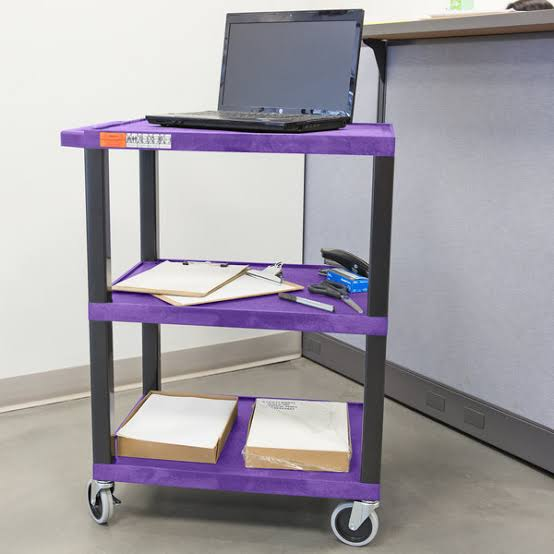Carts: (60, 114, 397, 550)
